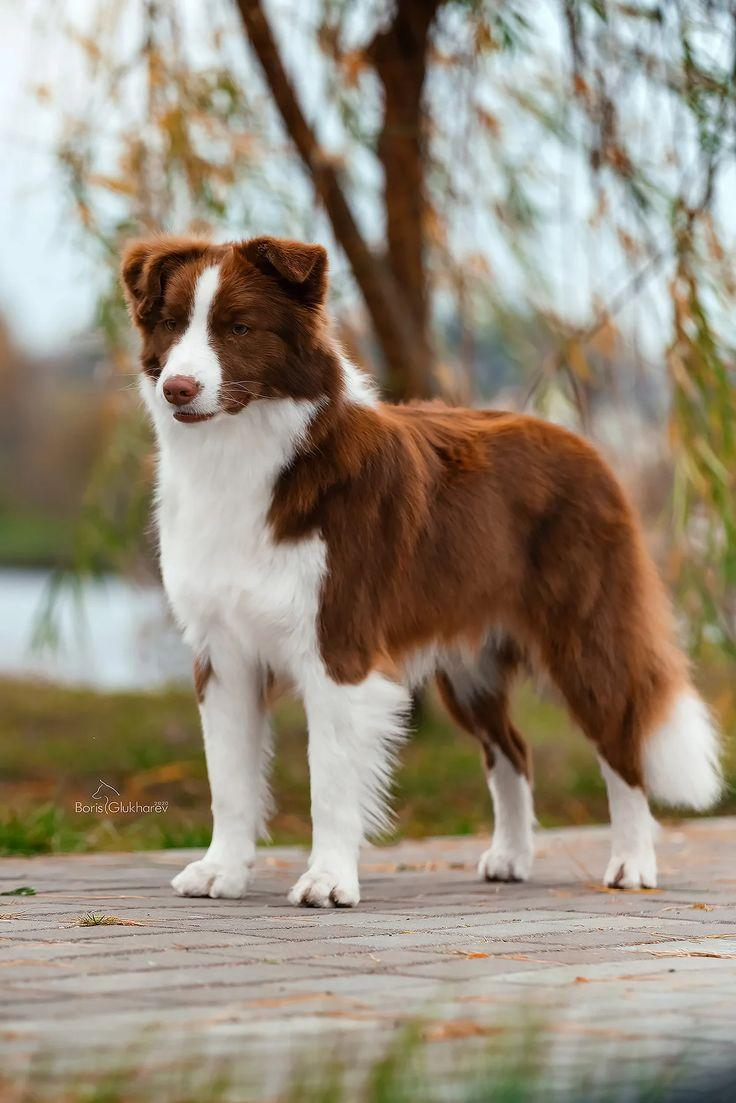dog: (123, 237, 719, 905)
